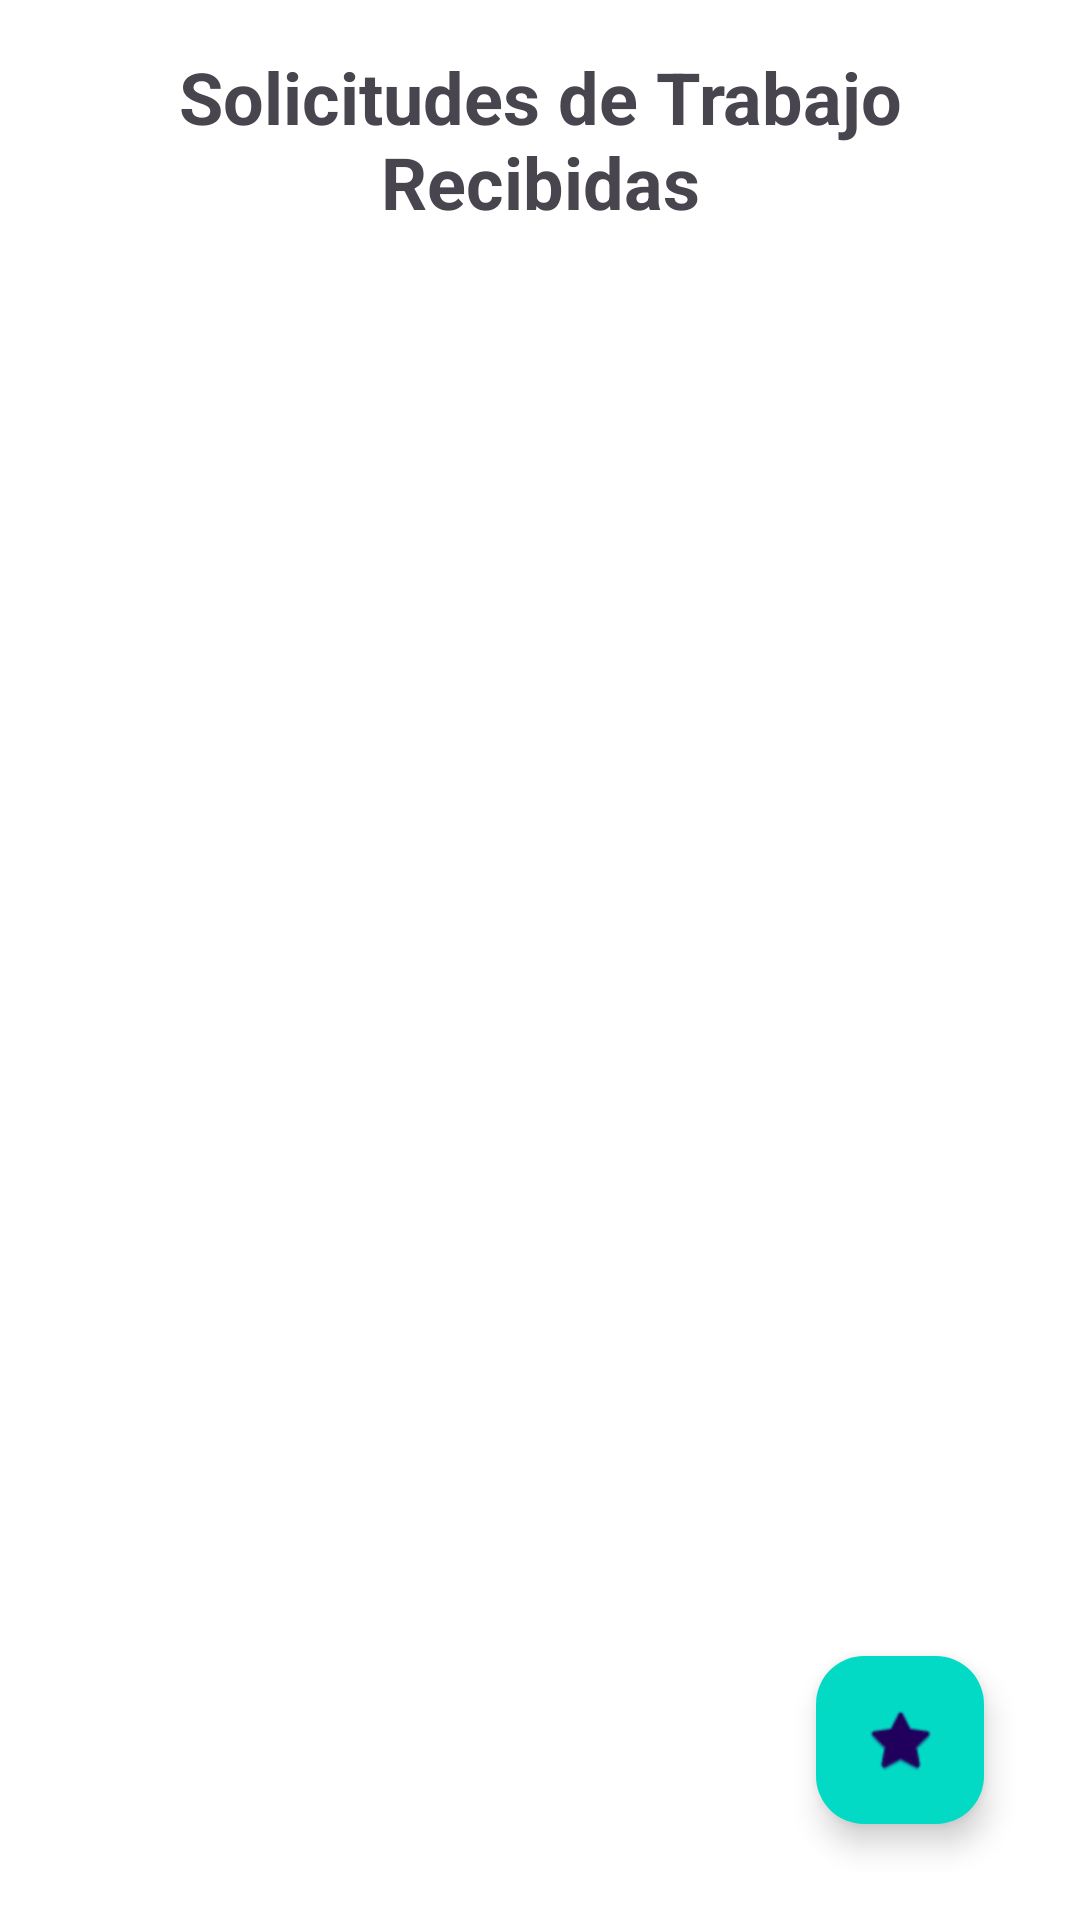

Where icons sit on this 1080px x 1920px app screen, as (x1, y1, x2, y2):
star: (816, 1656, 984, 1824)
